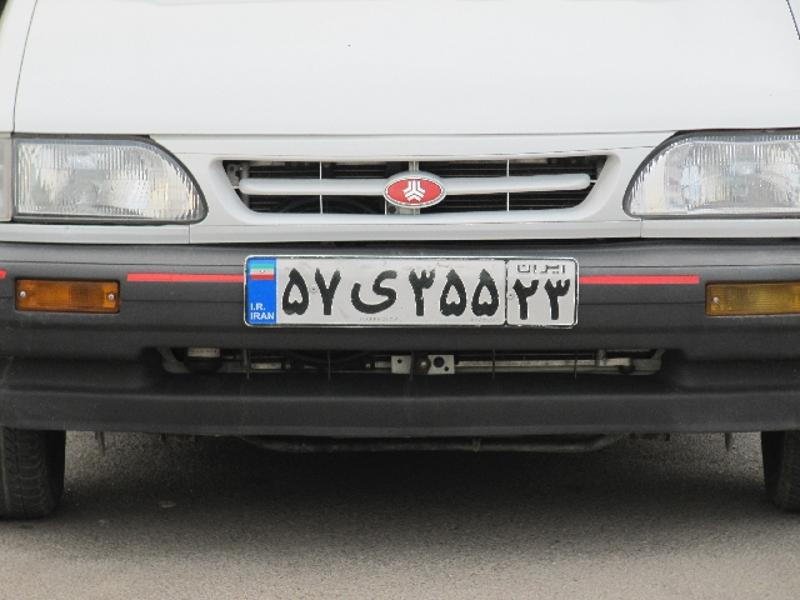Plate: (239, 254, 586, 331)
